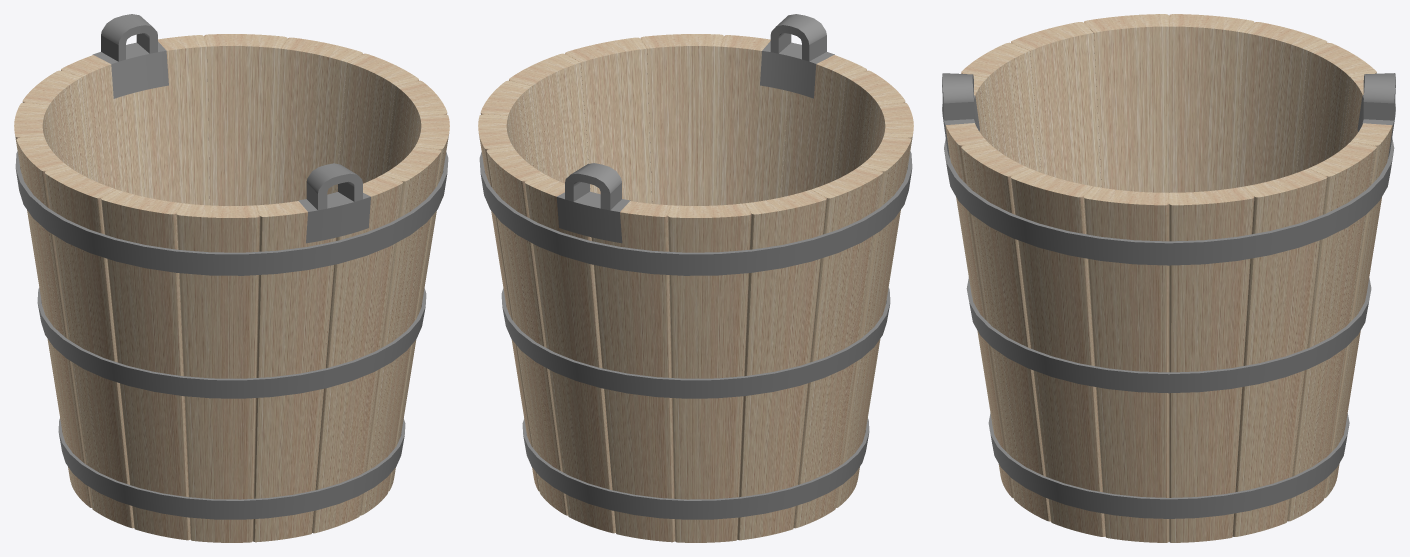
3 renders of one model, left to right at view 1: azimuth 30°, elevation 25°; view 2: azimuth 150°, elevation 25°; view 3: azimuth 270°, elevation 25°, orthographic. The views are drawn at different scales.
Parts seen in each view (by area): view 1: bucket1, hook1, hook2; view 2: bucket1, hook1, hook2; view 3: bucket1, hook1, hook2.
Part boxes in pixels (x1=…): bucket1: x1=14, y1=34, x2=449, y2=542; hook1: x1=92, y1=14, x2=168, y2=98; hook2: x1=298, y1=163, x2=370, y2=243; bucket1: x1=478, y1=34, x2=913, y2=542; hook1: x1=556, y1=163, x2=630, y2=243; hook2: x1=760, y1=14, x2=834, y2=98; bucket1: x1=944, y1=14, x2=1394, y2=542; hook1: x1=1357, y1=73, x2=1395, y2=158; hook2: x1=942, y1=73, x2=979, y2=158.
Bounding box in the file's own units: 7.31 × 7.02 × 7.33.
2 materials, 1 textured.
